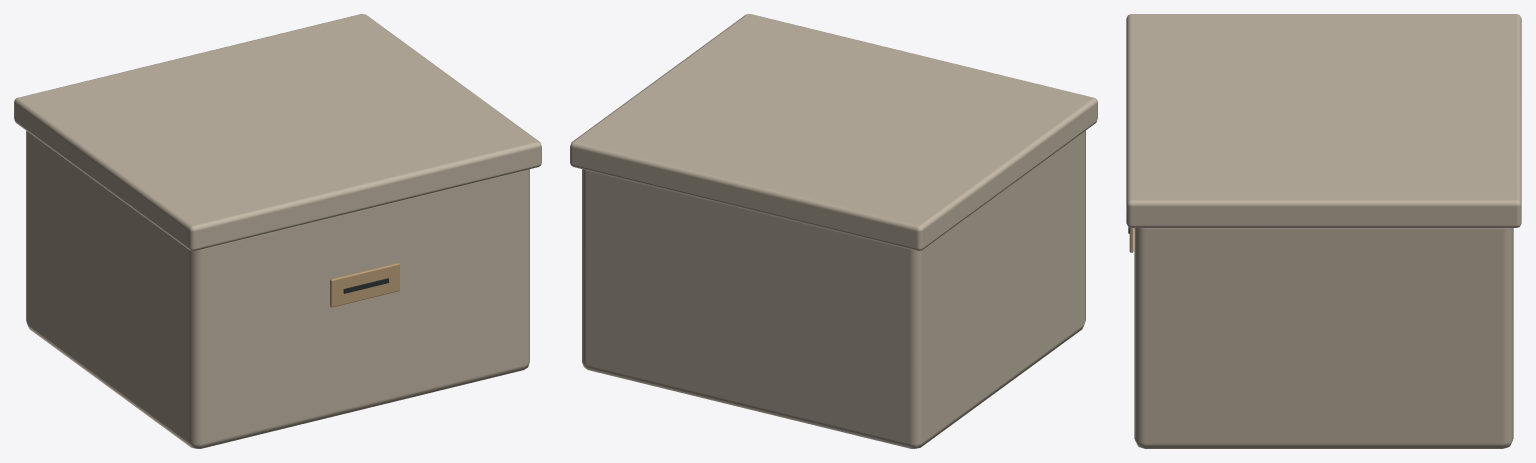
File: box-linen-balanced-6f13d1f37a.glb
The picture shows the model from 3 angles, left to right: view 1: azimuth 30°, elevation 25°; view 2: azimuth 150°, elevation 25°; view 3: azimuth 270°, elevation 25°; orthographic projection. The views are drawn at different scales.
Parts seen in each view (by area): view 1: textile, oak; view 2: textile; view 3: textile.
Part boxes in pixels (box(x1,y1,x2,y2)): textile: box(14, 14, 541, 448); oak: box(330, 263, 399, 307); textile: box(570, 14, 1097, 448); textile: box(1126, 14, 1521, 448).
Bounding box in the file's own units: 0.332 × 0.2075 × 0.292.
